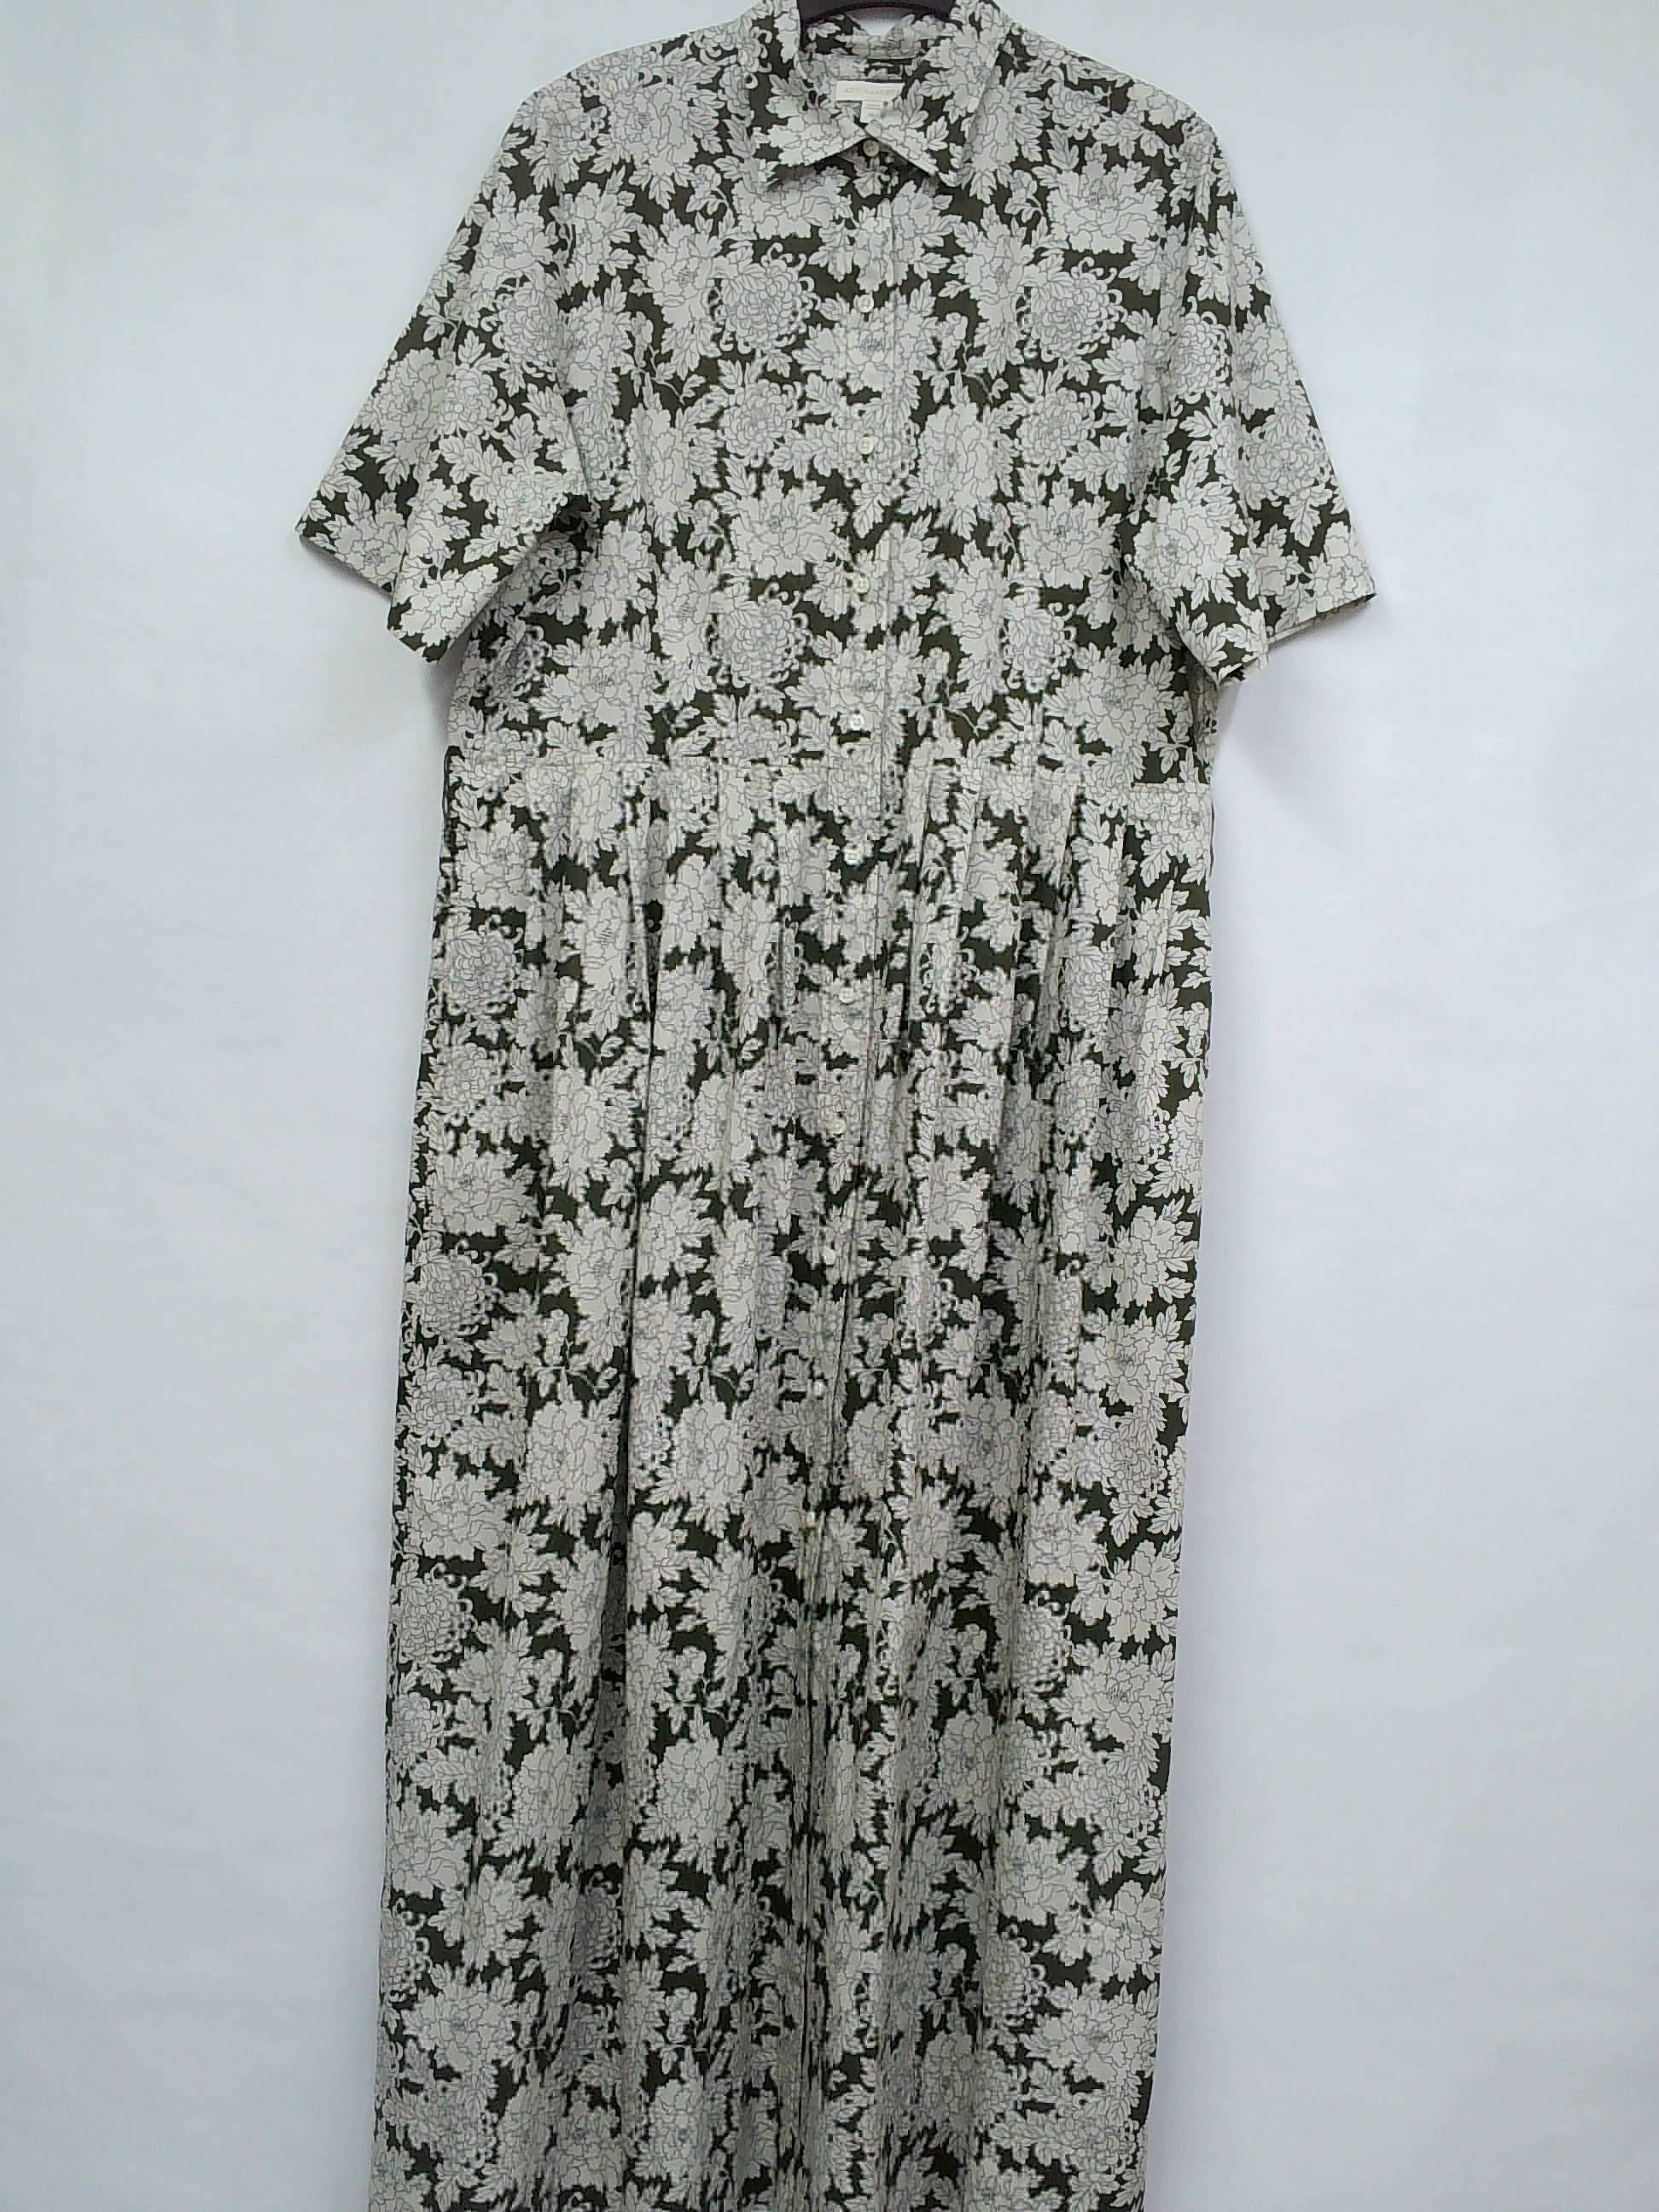seam: (434, 686, 532, 810)
